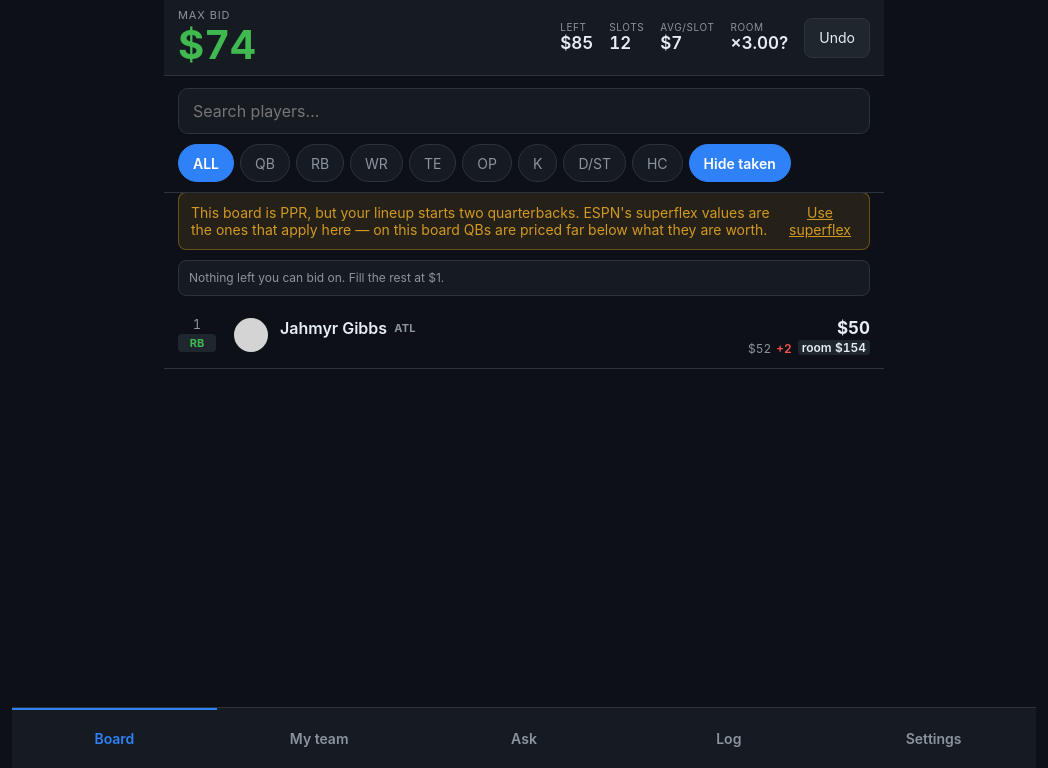
Scenario: draft board end to end › carries the board's identity cues onto the roster row
Expected: the text "Jahmyr Gibbs" is shown, [280, 318, 387, 338]
Click the button "My team" at (319, 738), box [217, 708, 422, 767]
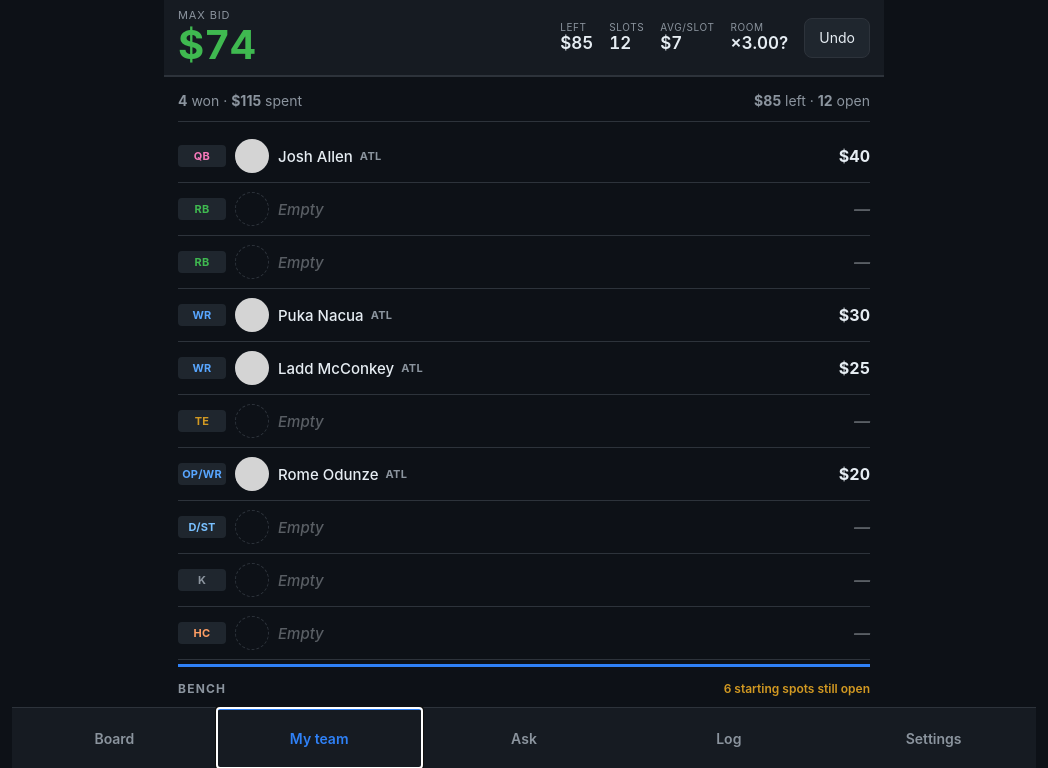
Expected: the text "ATL" next to "Josh Allen" is shown, [360, 149, 382, 163]
Now the text "OP/WR" is shown, box [178, 463, 226, 485]
Now the 1st element with class "roster-avatar-open" is shown, box [235, 192, 269, 226]
